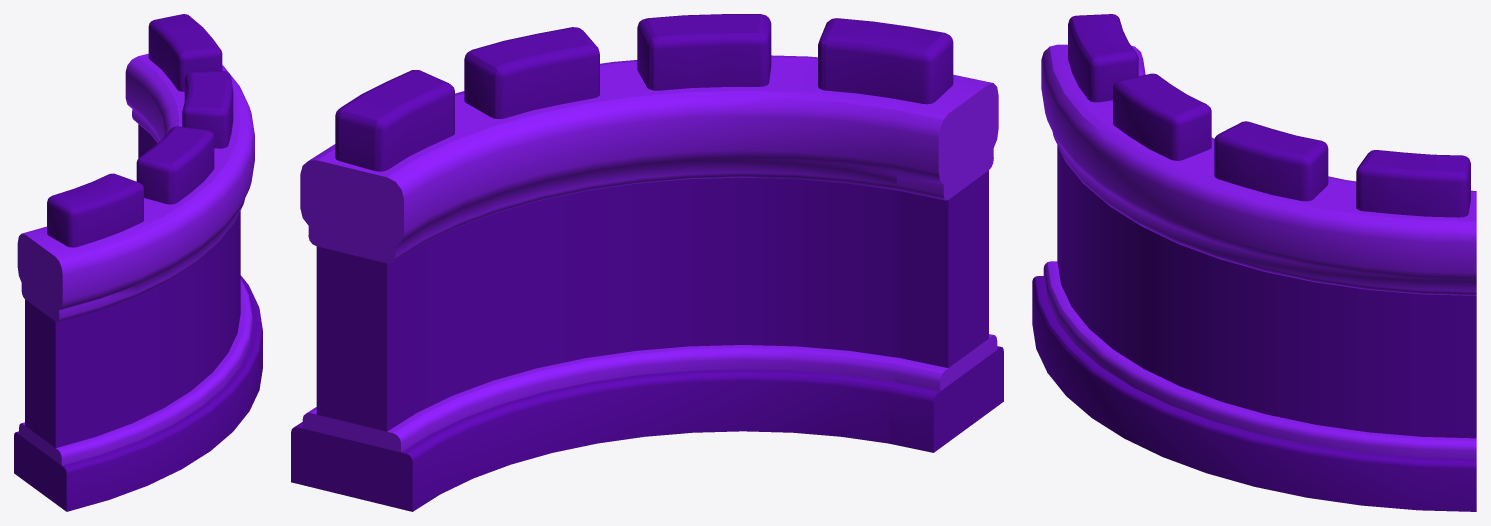
File: Thin wall corner (regular height).fbx
3 renders of one model, left to right at view 1: azimuth 30°, elevation 25°; view 2: azimuth 150°, elevation 25°; view 3: azimuth 270°, elevation 25°, orthographic. The views are drawn at different scales.
Visible parts, largest first — view 1: Cube.010; view 2: Cube.010; view 3: Cube.010.
Boxes of the visible parts, bbox=[...] form: Cube.010: bbox=[14, 14, 262, 511]; Cube.010: bbox=[291, 14, 1003, 511]; Cube.010: bbox=[1032, 14, 1476, 511].
Bounding box in the file's own units: 57.77 × 46.22 × 57.77.
Materials: 1 (1 with a texture image).
